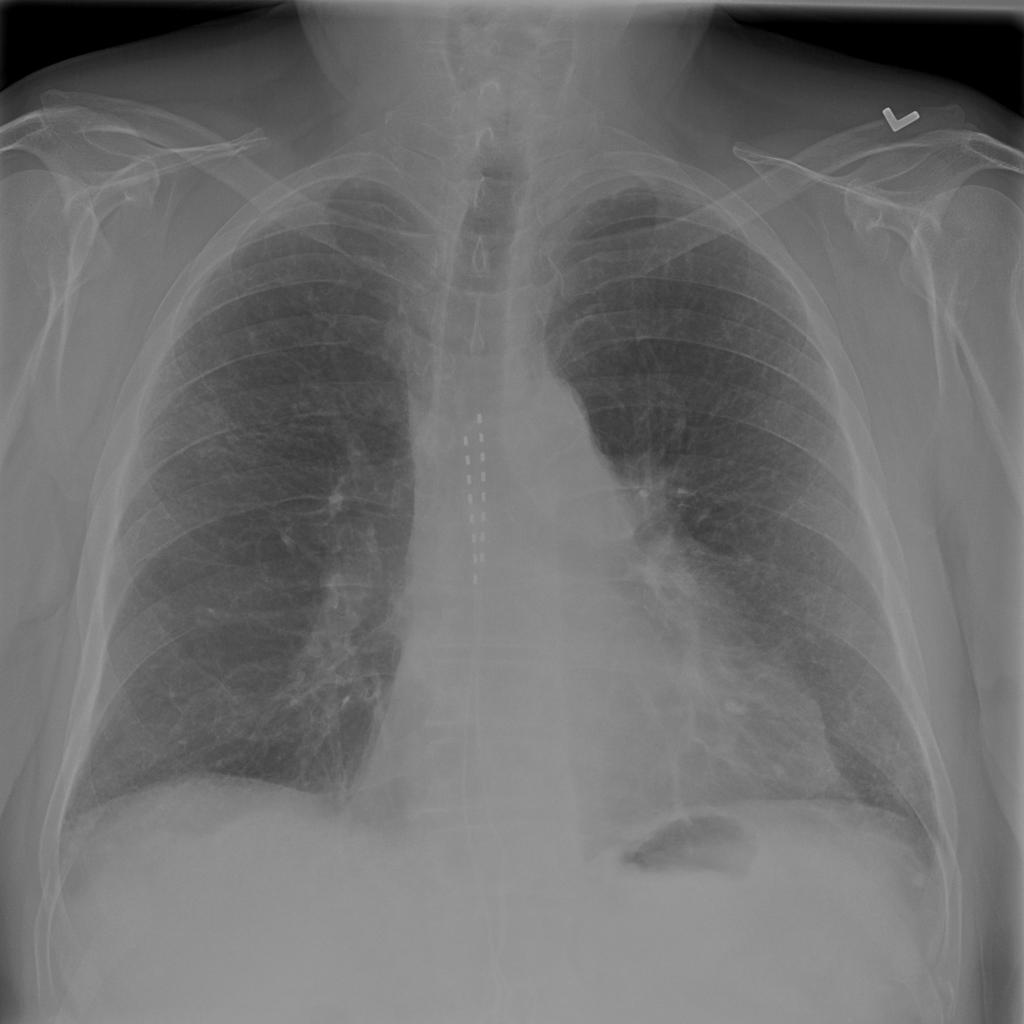nodule: (766, 729, 848, 802)
